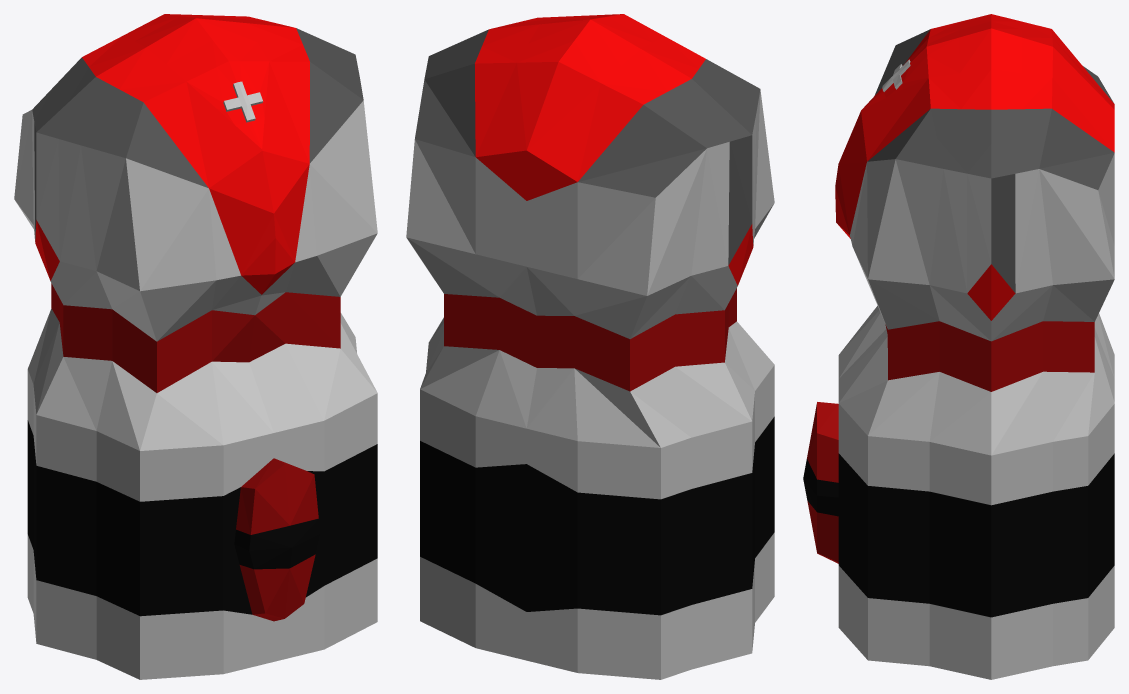
The model's file is Health Selling Machine.FBX.
3 renders of one model, left to right at view 1: azimuth 30°, elevation 25°; view 2: azimuth 150°, elevation 25°; view 3: azimuth 270°, elevation 25°, orthographic. The views are drawn at different scales.
Parts seen in each view (by area): view 1: Box001; view 2: Box001; view 3: Box001.
Boxes of the visible parts, x1,y1,x2,y2 form: Box001: (14,14,377,679); Box001: (406,14,774,679); Box001: (803,14,1114,679).
Bounding box in the file's own units: 430 × 755 × 371.
